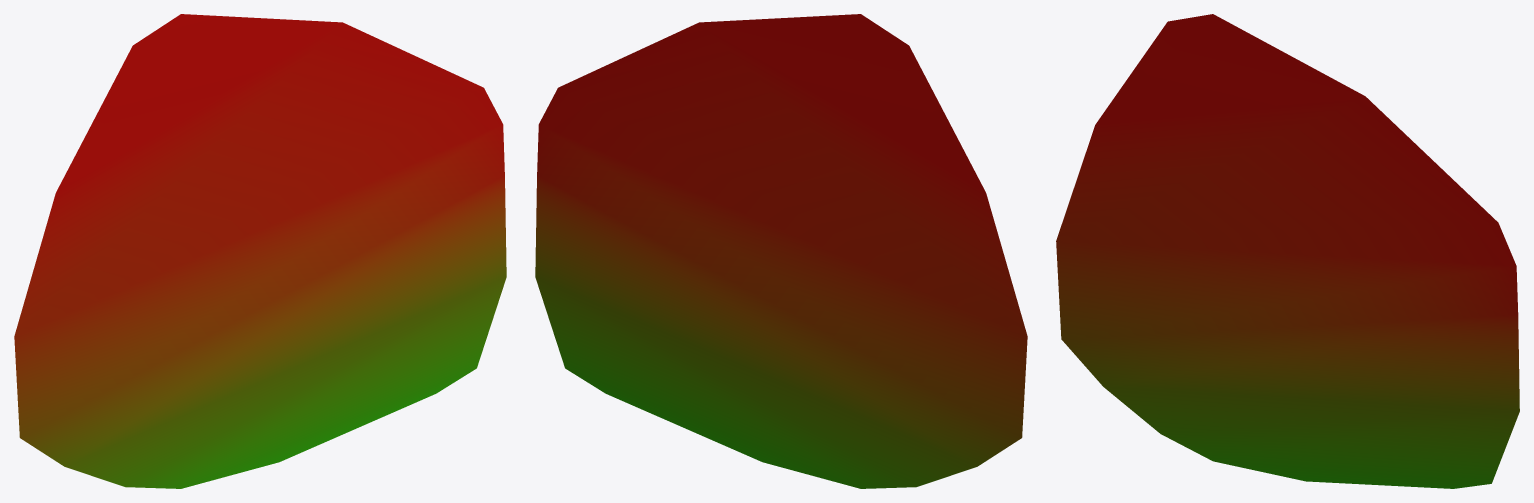
The model's file is Var7_LOD7.fbx.
3 views of the same model, side by side, from view 1: azimuth 30°, elevation 25°; view 2: azimuth 150°, elevation 25°; view 3: azimuth 330°, elevation 25° (orthographic). The views are drawn at different scales.
Parts seen in each view (by area): view 1: _6h1j_Var7_LOD7; view 2: _6h1j_Var7_LOD7; view 3: _6h1j_Var7_LOD7.
Boxes of the visible parts, x1,y1,x2,y2 form: _6h1j_Var7_LOD7: [14, 14, 506, 488]; _6h1j_Var7_LOD7: [535, 14, 1027, 488]; _6h1j_Var7_LOD7: [1056, 14, 1519, 488].
Size of the model in its own units: 35.34 by 32.58 by 9.47e-07.
